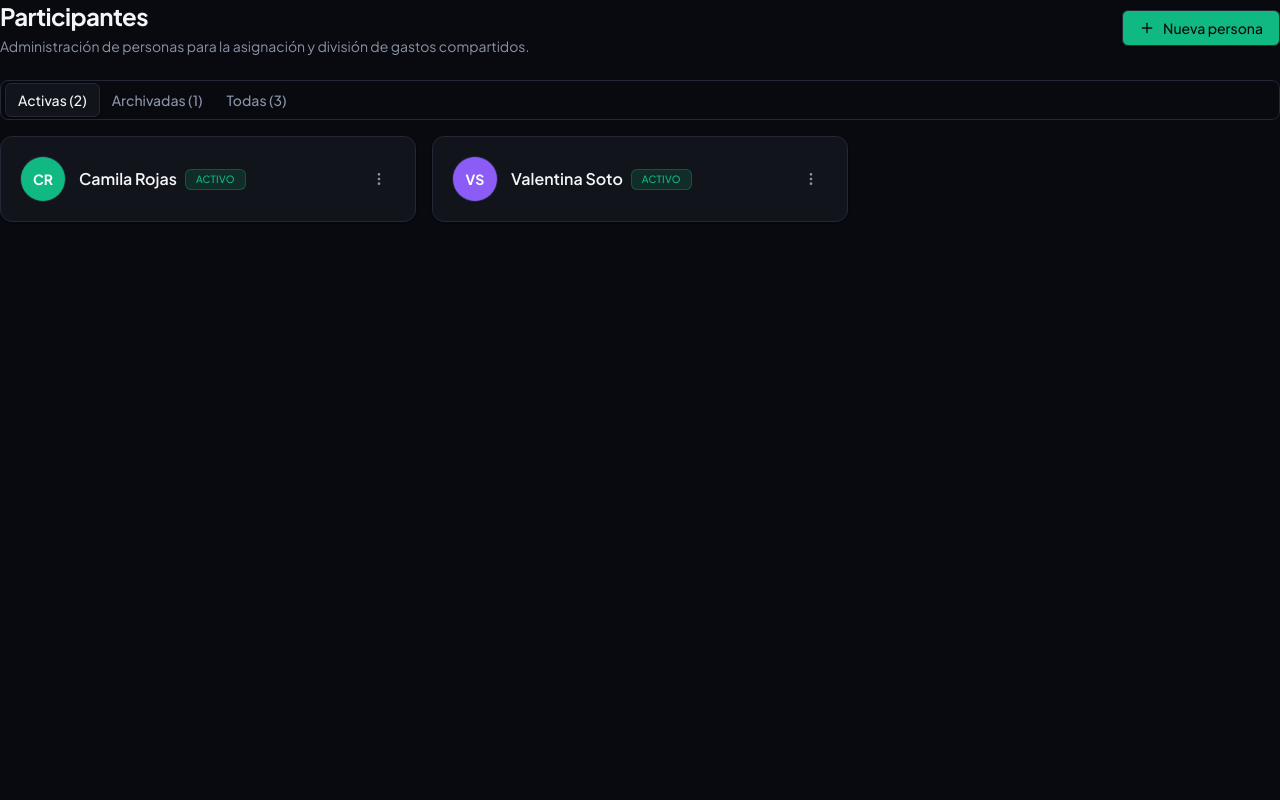
Test: PersonsView Component (Spec 003 T9) › handles 404 in deletion: shows error toast and closes confirm dialog
Click the button named "acciones para camila rojas": (379, 179) [363,163,395,195]
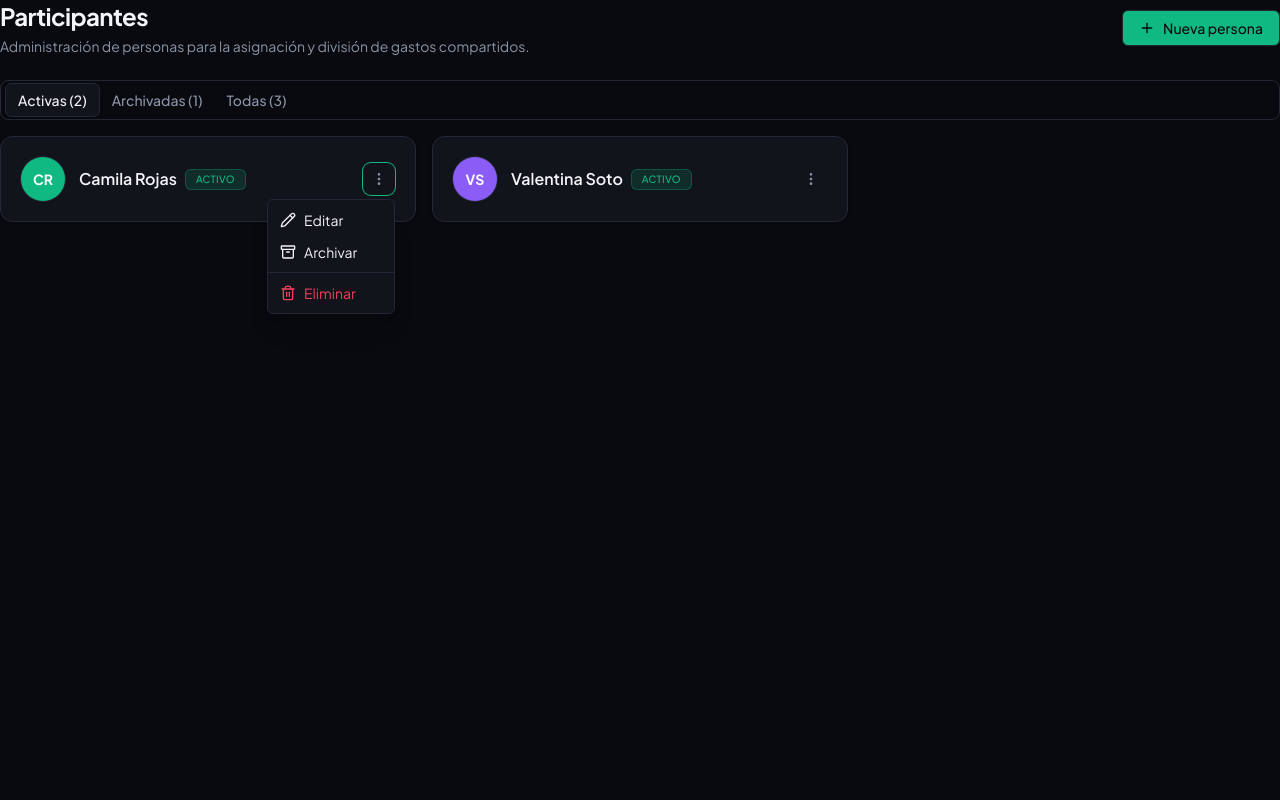
Click the menu item "Eliminar": (331, 293) [272,277,390,309]
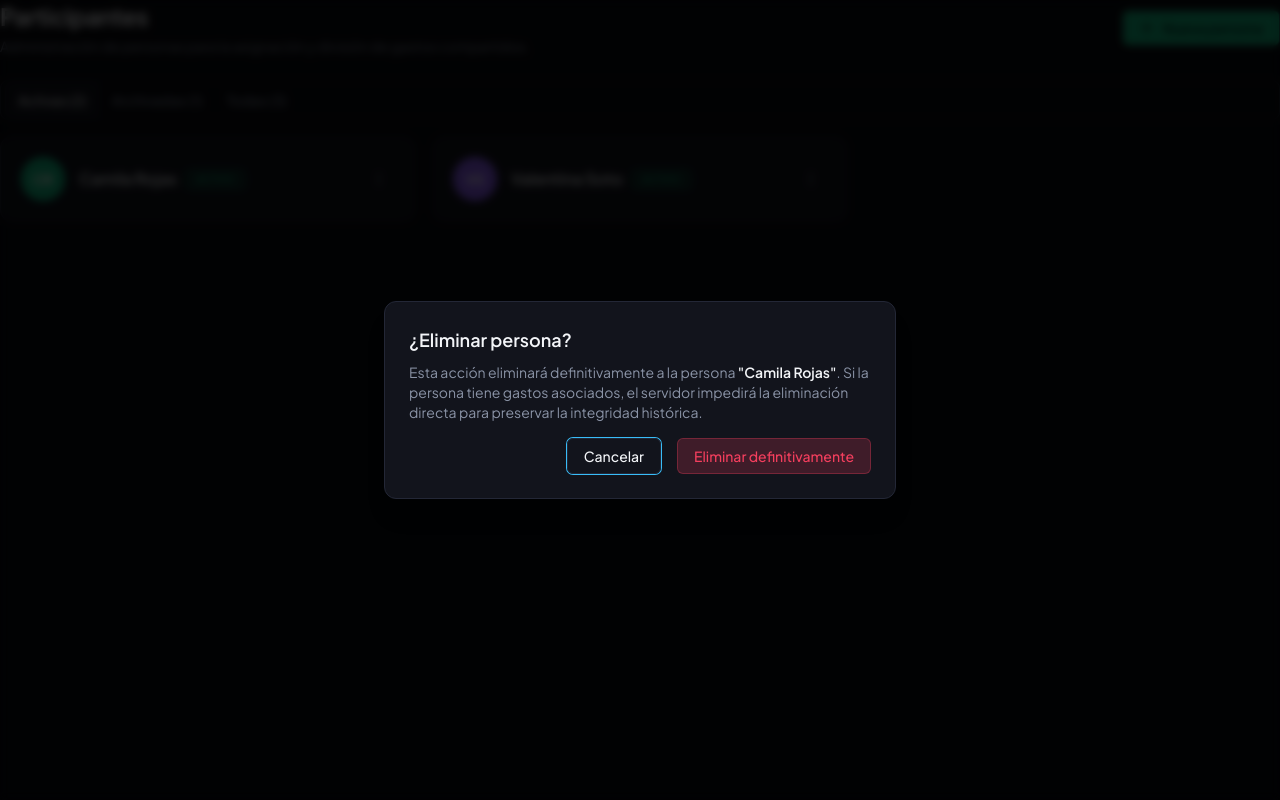
Click the button "Eliminar definitivamente": (774, 456) [677,438,871,474]
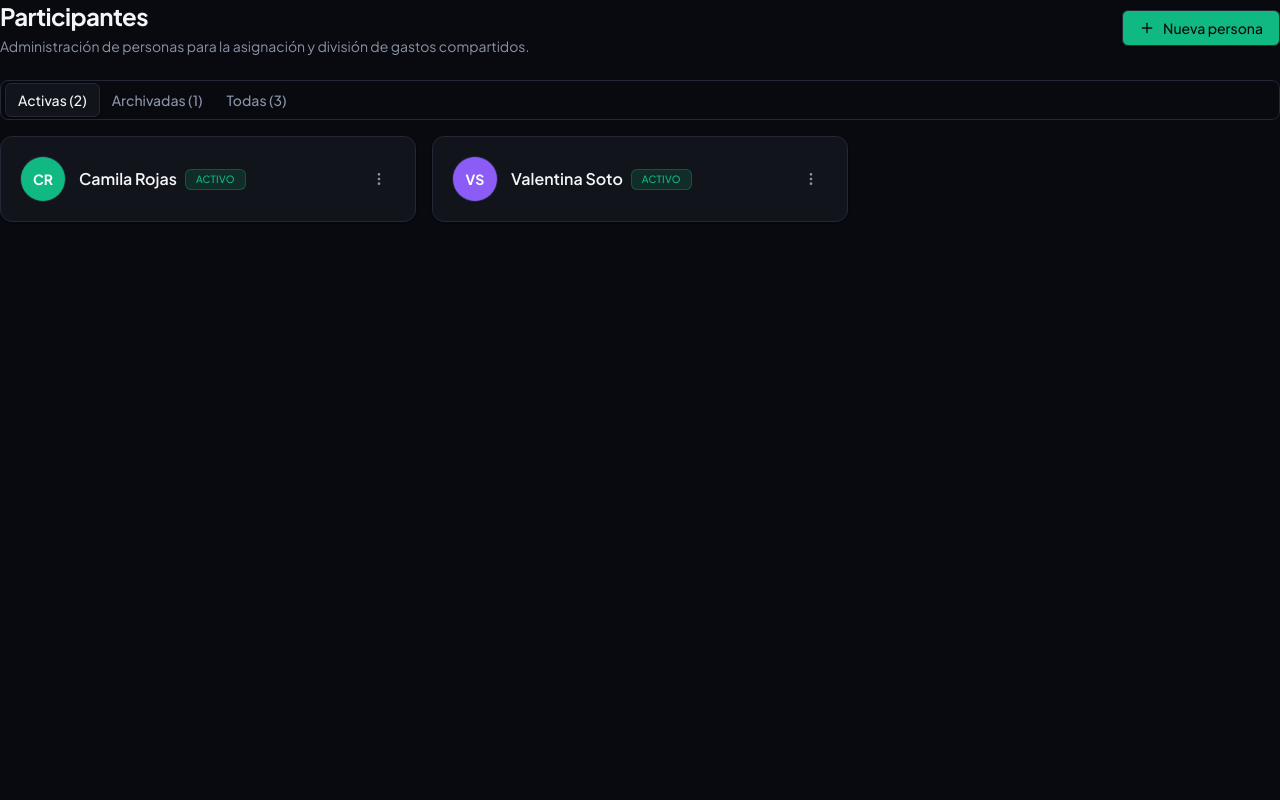
Expected: the dialog is gone
